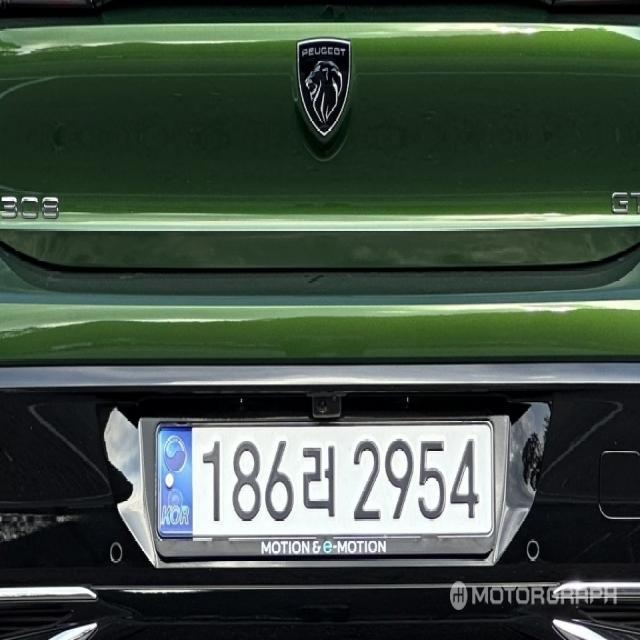car: (132, 408, 524, 580)
